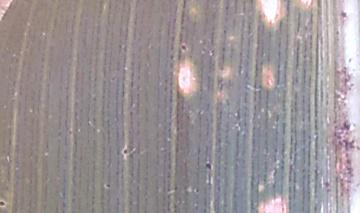tarspot: (342, 117, 353, 137), (337, 9, 349, 22), (204, 159, 214, 173), (179, 42, 189, 53), (103, 181, 114, 190), (335, 27, 343, 39), (1, 197, 8, 210), (121, 147, 130, 156)
